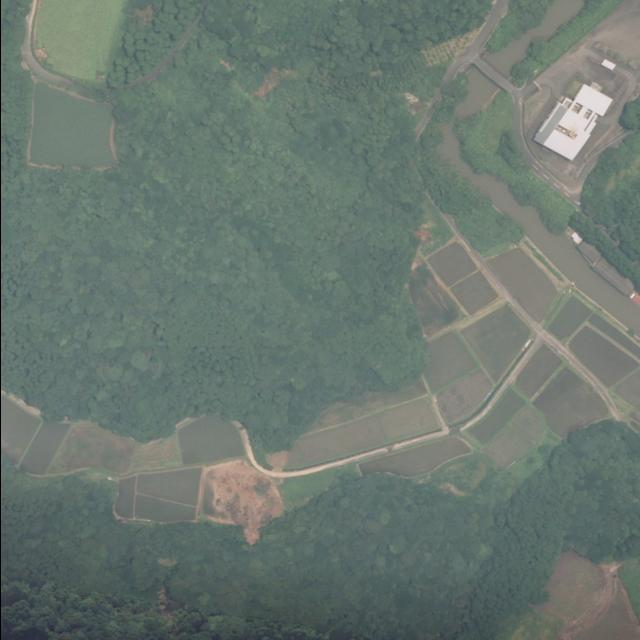landslide: (202, 462, 283, 546)
